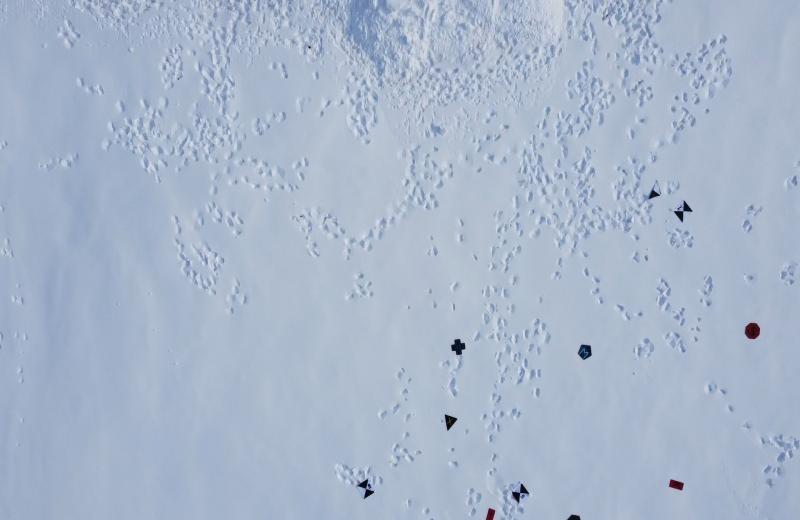Cross: (449, 338, 468, 357)
Octagon: (744, 320, 762, 341)
Pentagon: (576, 343, 592, 361)
Rectangle: (668, 478, 686, 492), (485, 508, 496, 520)
Triangle: (442, 412, 458, 432)
